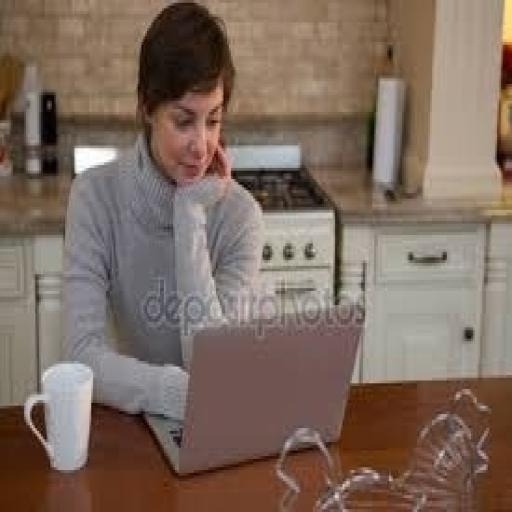using_laptop: (141, 296, 365, 478)
